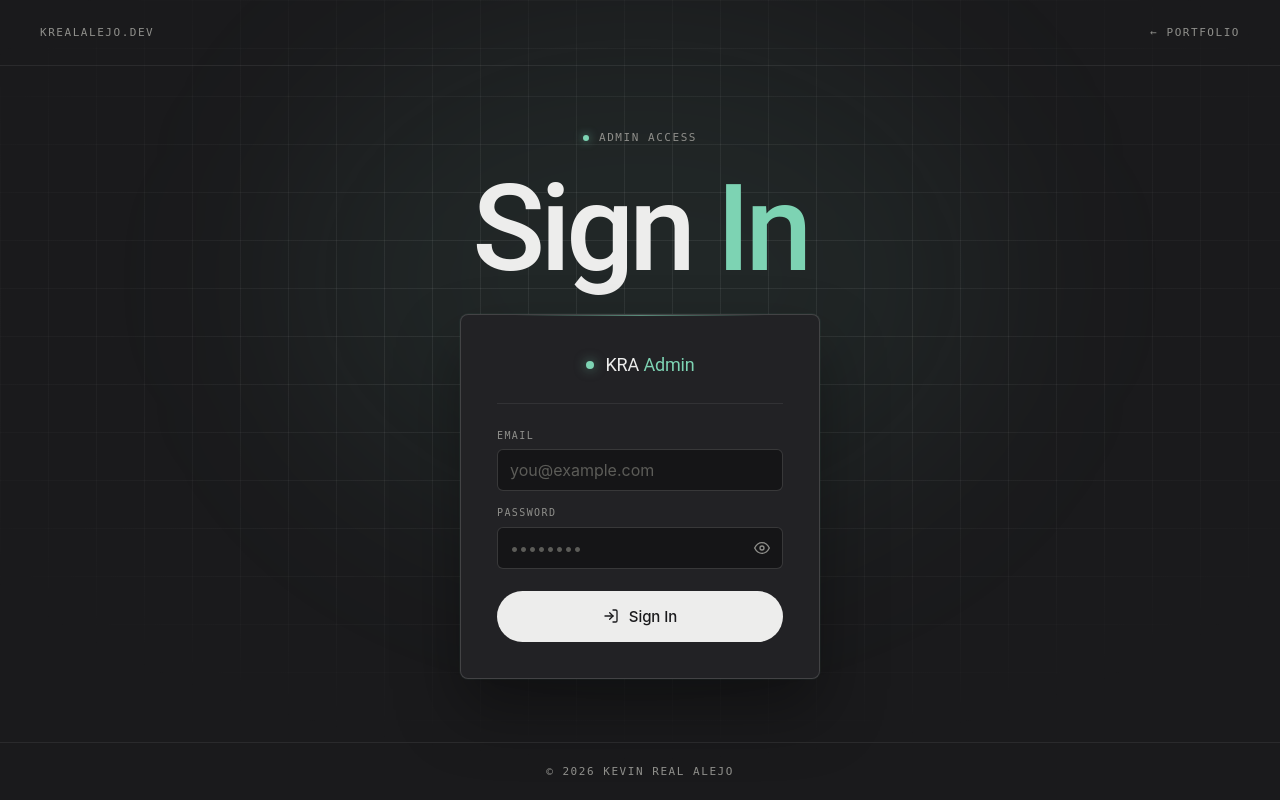
Test case: pages/admin/login.vue › shows 403 error message for password reset required
Step 1. Type "a@b.com" into the field labelled "Email" → [640, 470], box [497,449,783,491]
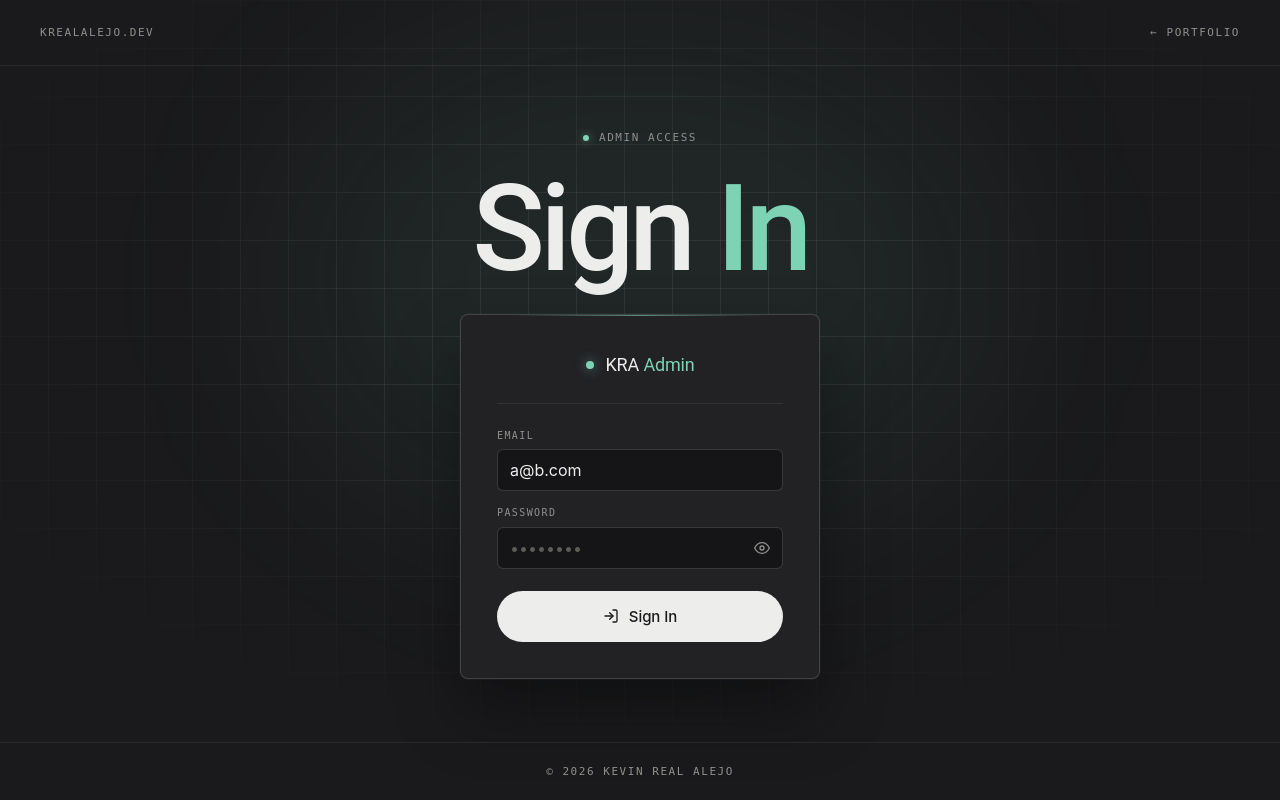
Step 2. Type "pass" into the password field labelled "Password" → [640, 548], box [497,527,783,569]
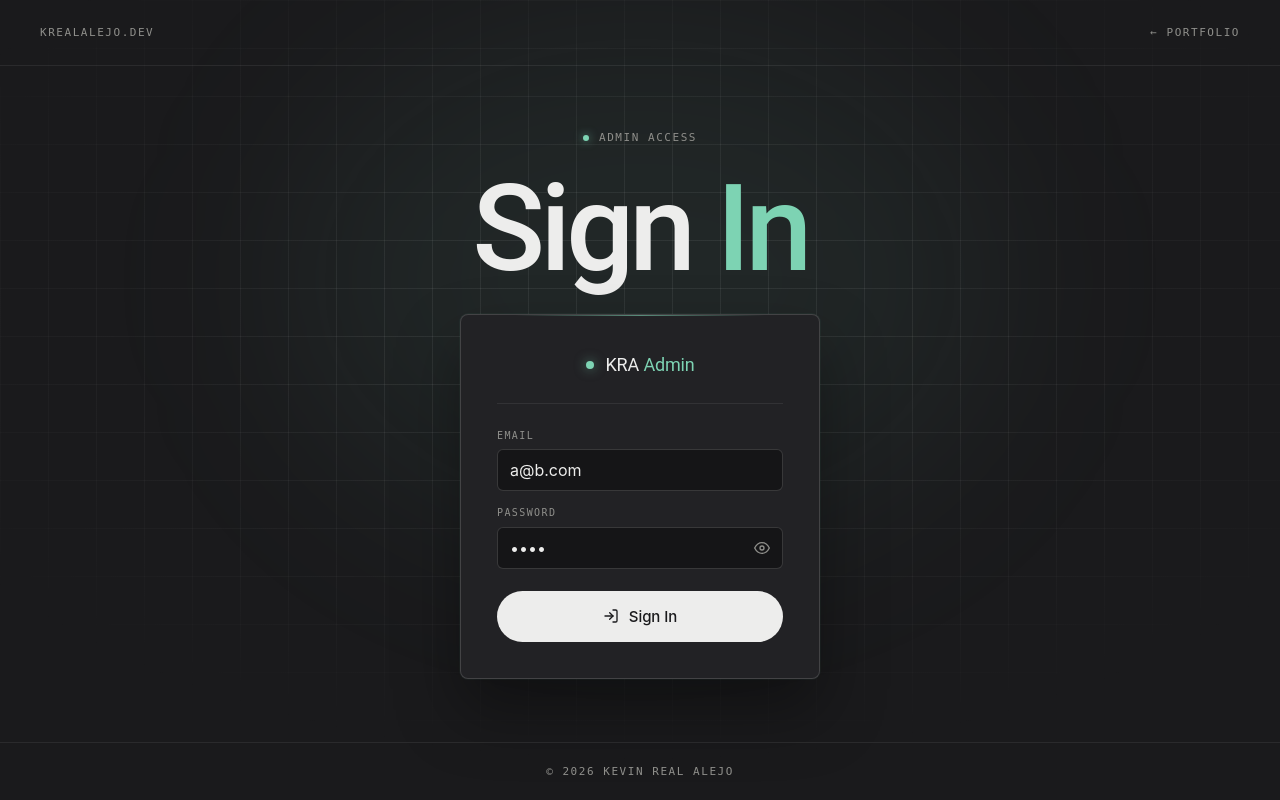
Step 3. Submit the form, box [460,314,820,679]
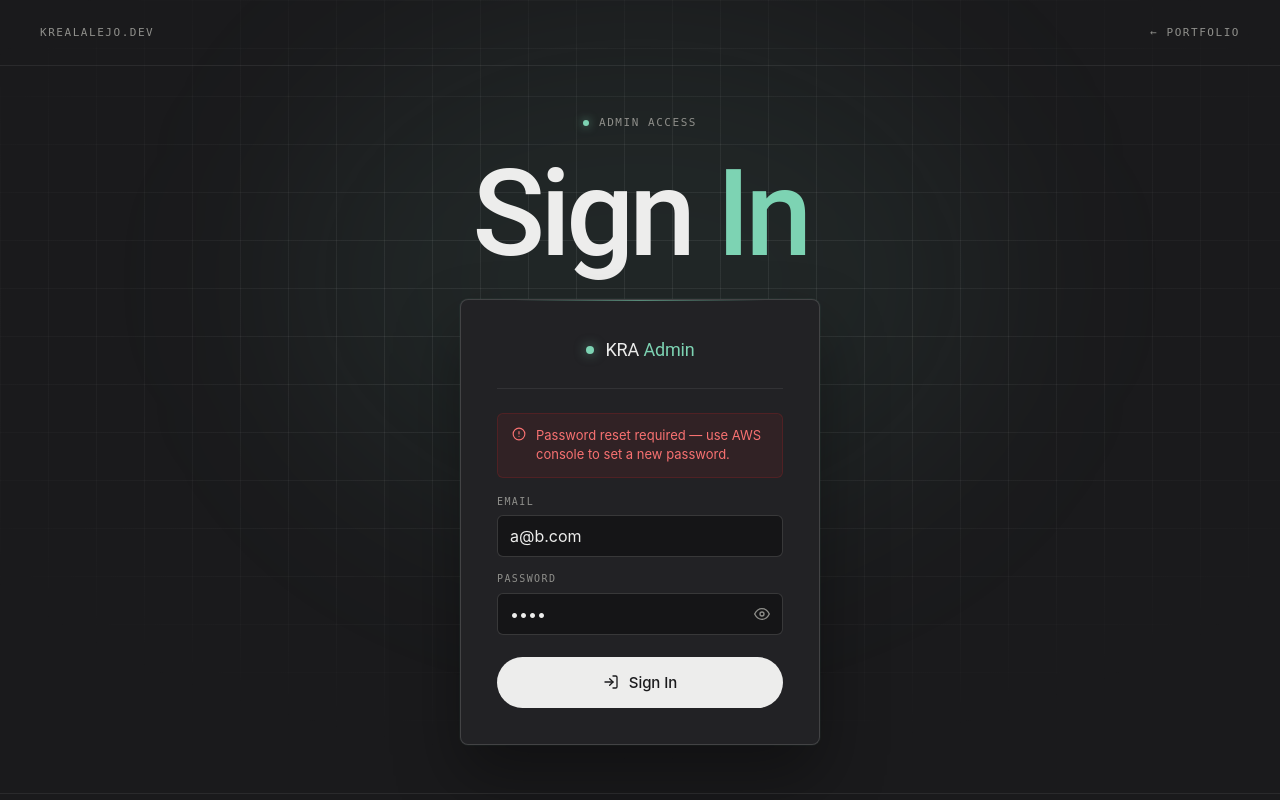
Expected: the message "Password reset required — use AWS console to set a new password." is shown, [497,413,783,478]
